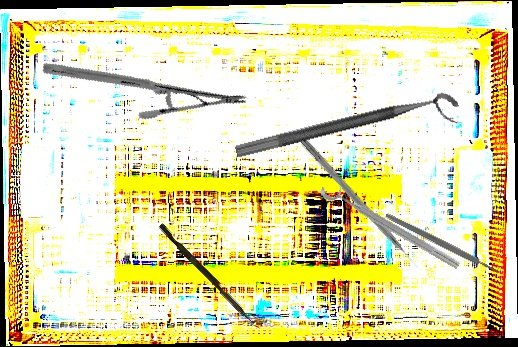Fixation Ring: (234, 89, 463, 177), (318, 172, 467, 274)
Needle Holder: (40, 1, 249, 167)
Pusher: (298, 137, 422, 273), (155, 222, 260, 327)
Scalpel Handle: (384, 211, 500, 276)
